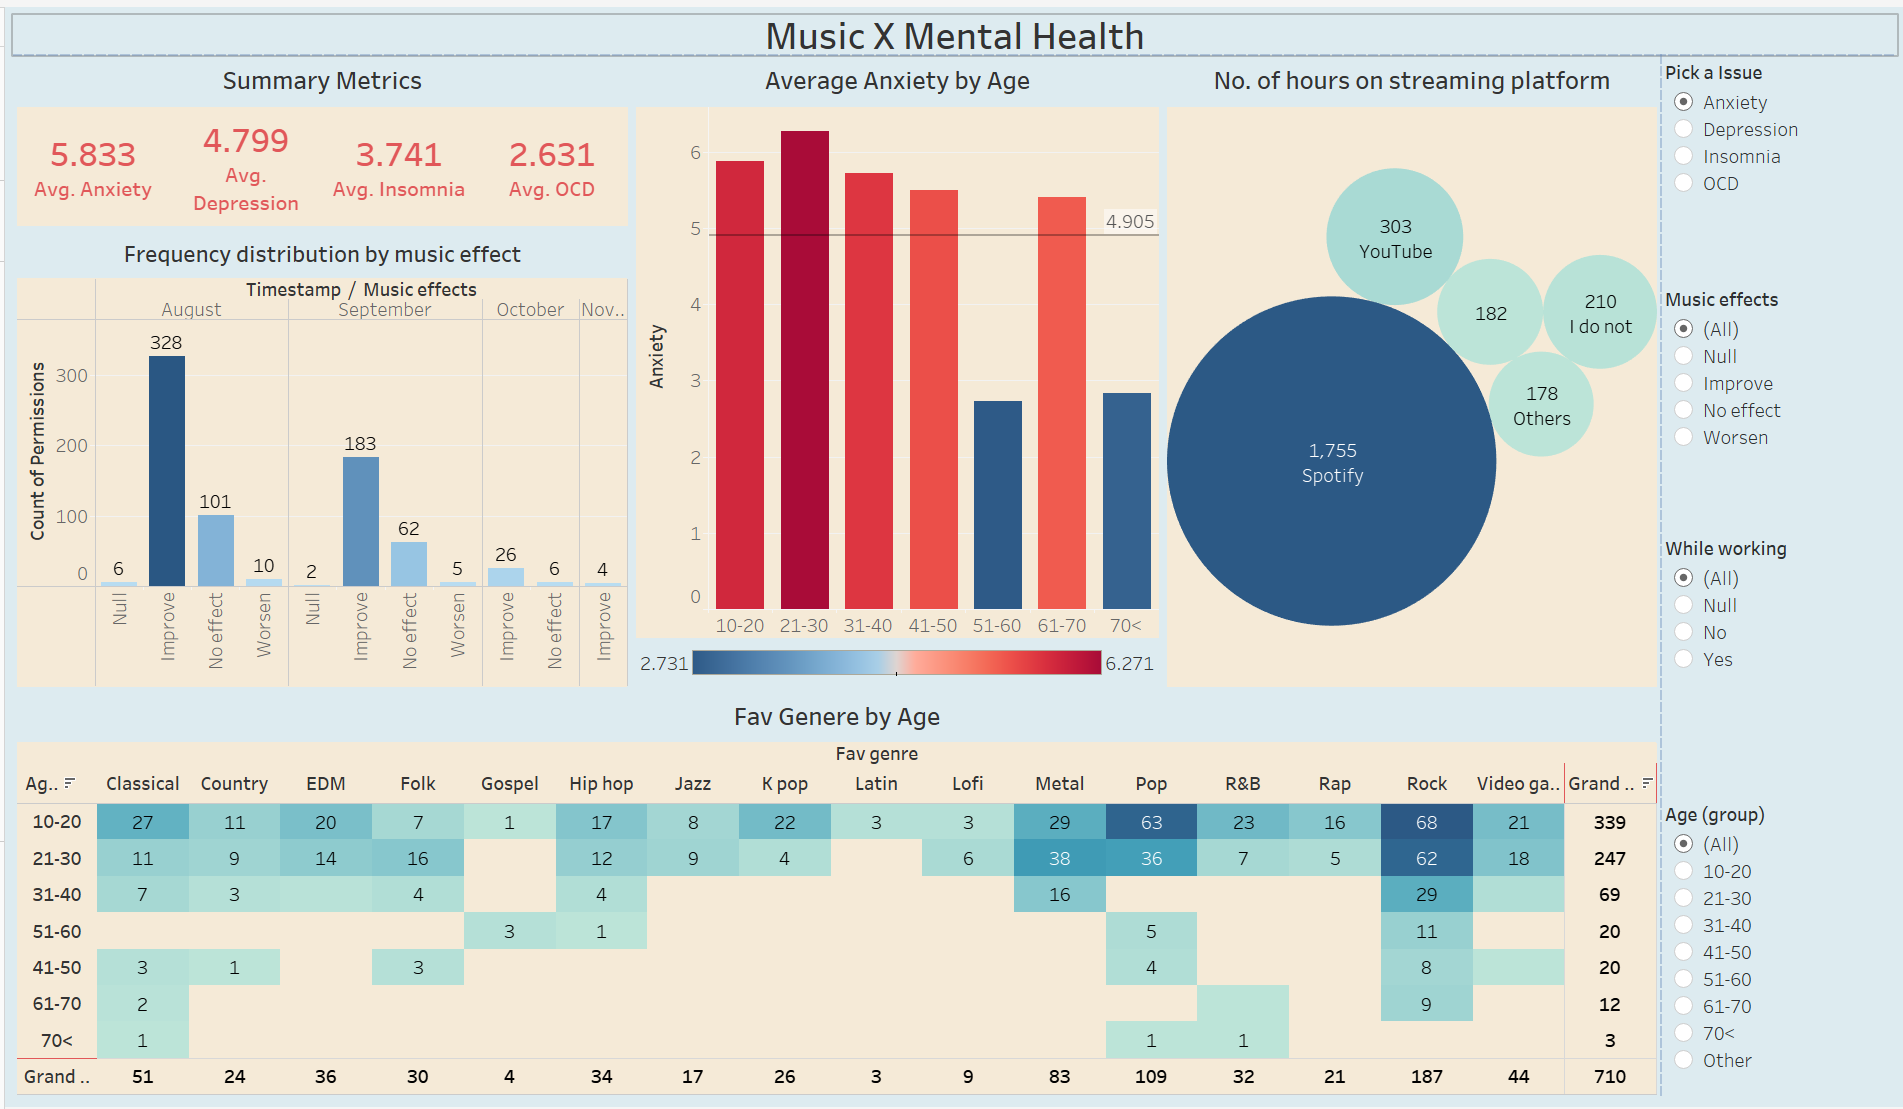

What the dashboard file says about the page in this screenshot:
{"tool":"tableau","page":{"name":"Dashboard 3","canvas":[1900,1100],"ordinal":0},"visuals":[{"type":"title","box":[8,8,1884,40]},{"type":"worksheet","title":"Summary","mark":"Automatic","box":[8,48,618.8,175.2]},{"type":"worksheet","title":"Issue/Age","mark":"Automatic","rows":["Calculation_1803128720104046592"],"box":[626.8,48,530.9,587.1]},{"type":"worksheet","title":"Hours/Streaming platform","mark":"Circle","box":[1157.8,48,498.2,636]},{"type":"parameter","param":"[Parameters].[Parameter 1]","box":[1656,48,236,227]},{"type":"worksheet","title":"Improve or not ","mark":"Bar","rows":["Permissions"],"cols":["Timestamp","Music effects"],"box":[8,223.2,618.8,460.8]},{"type":"filter","title":"Improve or not ","param":"[federated.0x6xi4u1jxfvmi1d7llt300muecb].[none:Music effects:nk]","box":[1656,275,236,249]},{"type":"filter","title":"Improve or not ","param":"[federated.0x6xi4u1jxfvmi1d7llt300muecb].[none:While working:nk]","box":[1656,524,236,266]},{"type":"legend","title":"Issue/Age","param":"[federated.0x6xi4u1jxfvmi1d7llt300muecb].[avg:Calculation_1803128720104046592:qk","box":[626.8,635.1,530.9,48.9]},{"type":"worksheet","title":"Fav genere / Age","mark":"Automatic","cols":["Fav genre"],"box":[8,684,1648,408]},{"type":"filter","title":"Fav genere / Age","param":"[federated.0x6xi4u1jxfvmi1d7llt300muecb].[Age (group)]","box":[1656,790,236,302]}]}

Visuals, with their boxes in screenshot pixels (x1, y1, x2, y2), scaled from the page's 1900x1100 canvas onto the 1903x1109 screenshot:
title: x1=8, y1=8, x2=1895, y2=48
"Summary" worksheet: x1=8, y1=48, x2=628, y2=225
"Issue/Age" worksheet: x1=628, y1=48, x2=1160, y2=640
"Hours/Streaming platform" worksheet (Circle marks): x1=1160, y1=48, x2=1659, y2=690
parameter: x1=1659, y1=48, x2=1895, y2=277
"Improve or not " worksheet (Bar marks): x1=8, y1=225, x2=628, y2=690
"Improve or not " filter: x1=1659, y1=277, x2=1895, y2=528
"Improve or not " filter: x1=1659, y1=528, x2=1895, y2=796
"Issue/Age" legend: x1=628, y1=640, x2=1160, y2=690
"Fav genere / Age" worksheet: x1=8, y1=690, x2=1659, y2=1101
"Fav genere / Age" filter: x1=1659, y1=796, x2=1895, y2=1101
